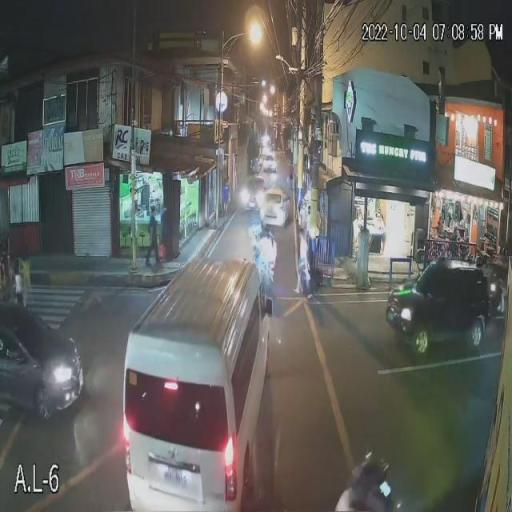helmet: (354, 450, 392, 488)
rider: (328, 487, 391, 512)
